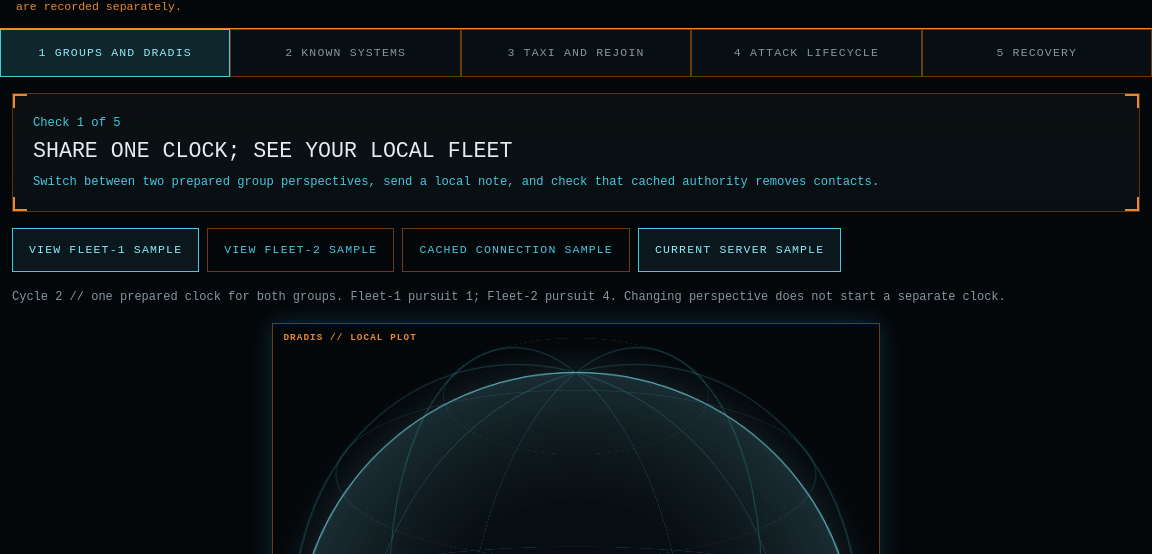
Test case: offers only scanned locations and current local recipients in the known-system sample
The image size is (1152, 554).
Click the button "2 Known systems" at [346, 53], box [230,29,461,77]
(page scrolled)
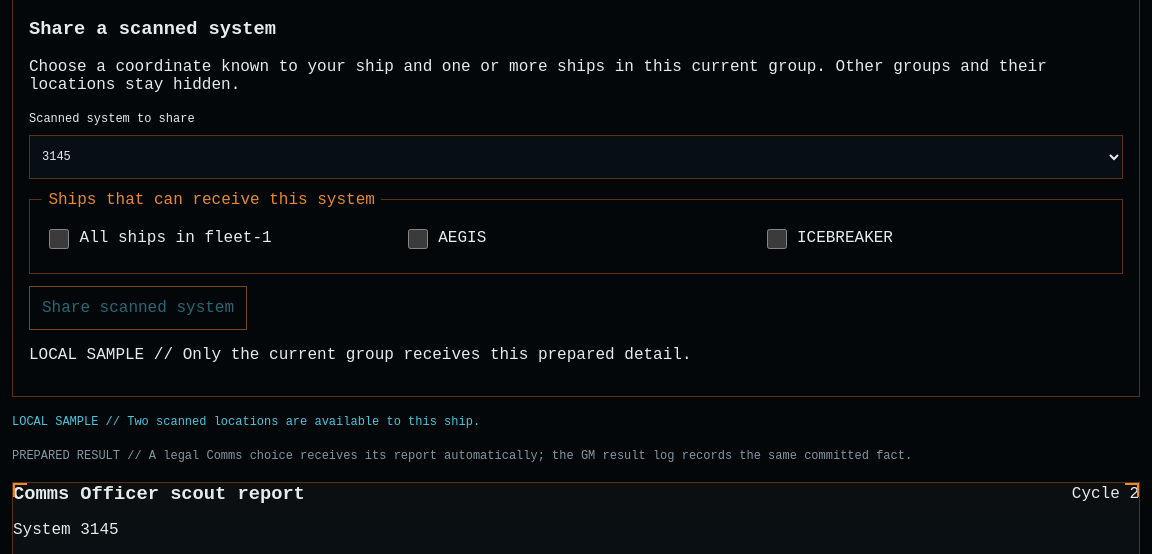
Check: the button "Share scanned system" is disabled, box [29,286,247,330]
Click the checkbox labelled "ICEBREAKER" at [776, 239], box [766,229,786,249]
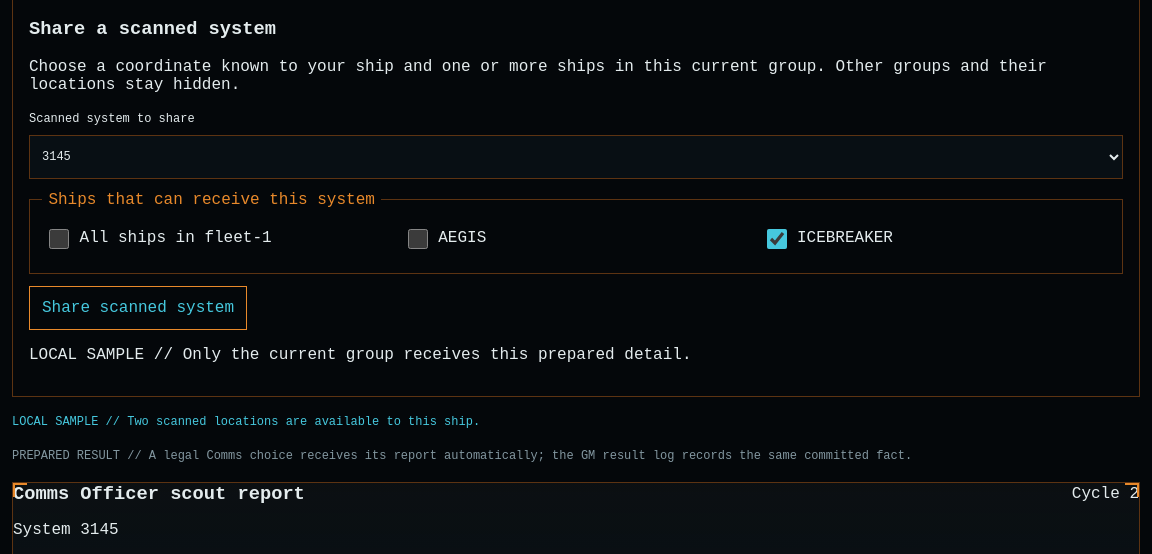
Select "3155" in the dropdown labelled "Scanned system to share" at [576, 157], box [29,135,1123,179]
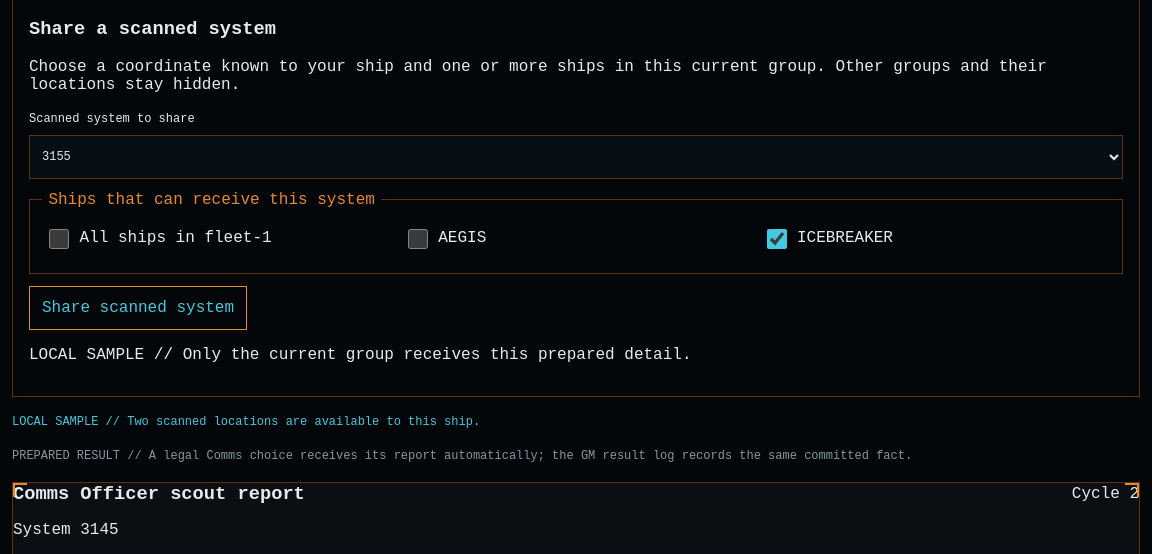
Click the button "Share scanned system" at [138, 308], box [29,286,247,330]
(page scrolled)
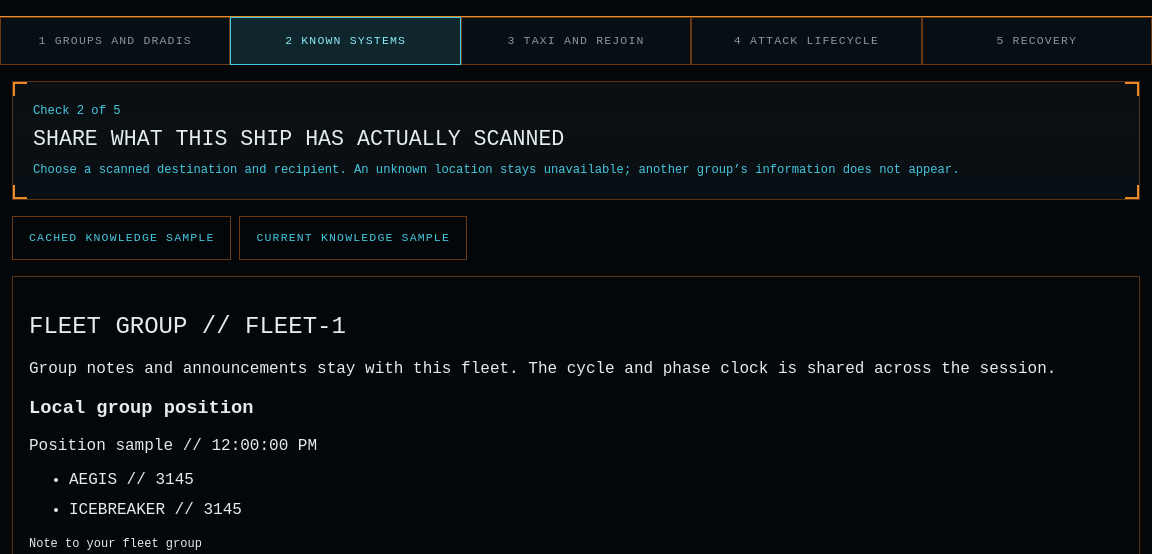
Click the button "Cached knowledge sample" at [122, 238], box [12,216,231,260]
(page scrolled)
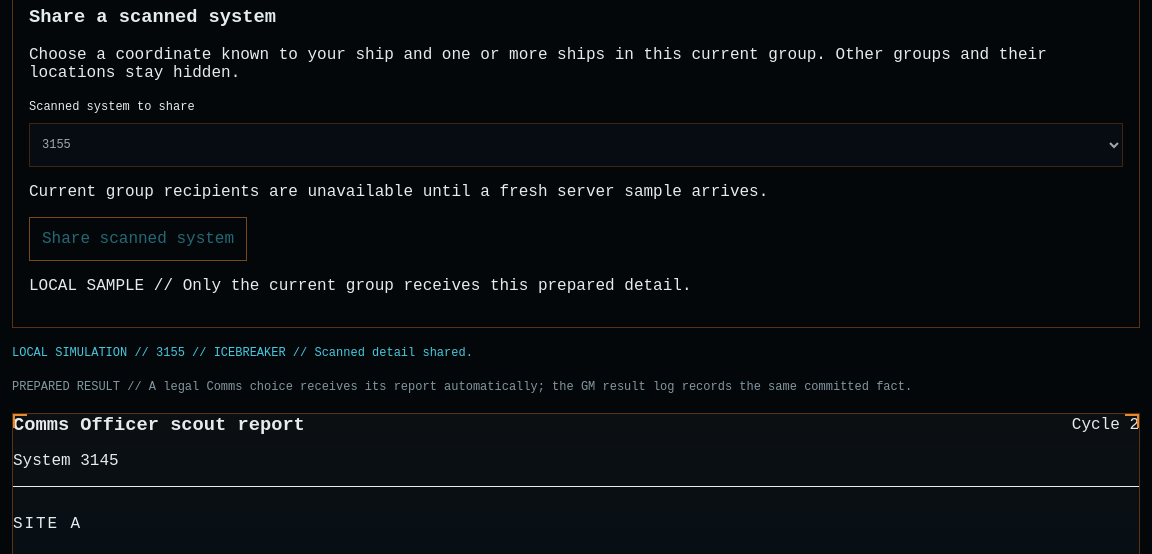
Check: the button "Share scanned system" is disabled, box [29,217,247,261]
